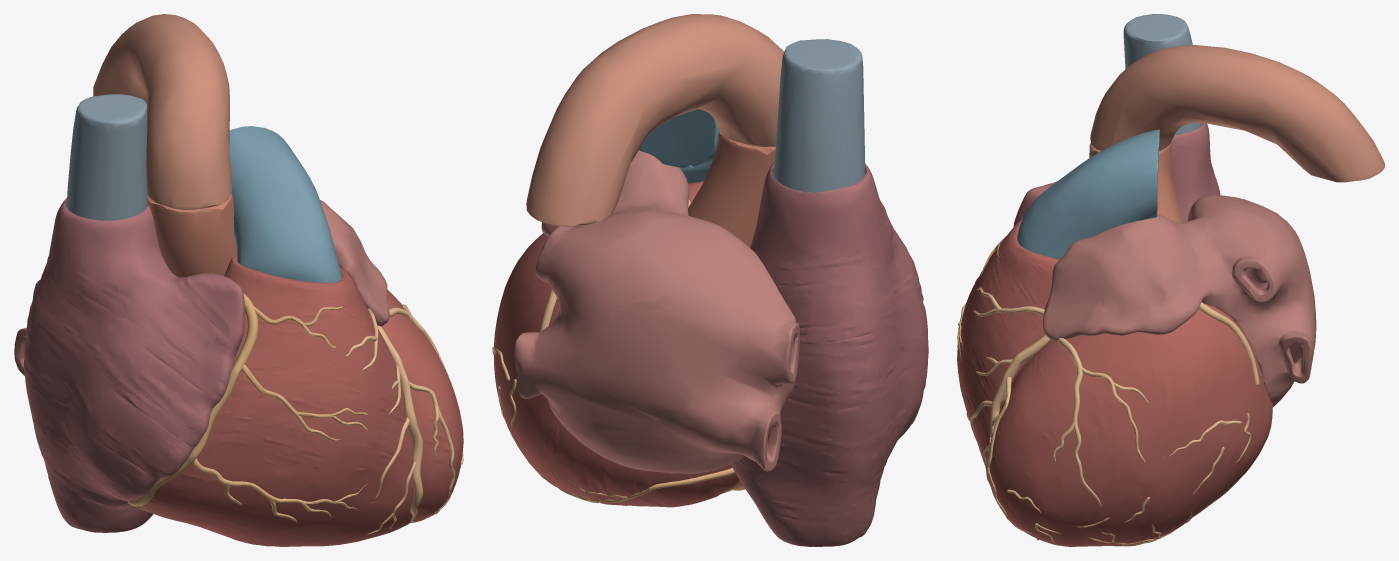
Rendered from heart.glb.
The picture shows the model from 3 angles, left to right: view 1: azimuth 30°, elevation 25°; view 2: azimuth 150°, elevation 25°; view 3: azimuth 270°, elevation 25°; orthographic projection. The views are drawn at different scales.
Parts seen in each view (by area): view 1: ventricular-wall, right-atrium, aortic-arch, pulmonary-trunk, superior-vena-cava, ascending-aorta, right-coronary, left-coronary, left-atrium; view 2: left-atrium, right-atrium, aortic-arch, ventricular-wall, superior-vena-cava, ascending-aorta, pulmonary-trunk, right-coronary, left-coronary; view 3: ventricular-wall, left-atrium, aortic-arch, pulmonary-trunk, left-coronary, right-atrium, superior-vena-cava, ascending-aorta, right-coronary.
Boxes of the visible parts, x1,y1,x2,y2 form: ventricular-wall: [136, 254, 463, 546]; right-atrium: [23, 198, 244, 532]; aortic-arch: [93, 14, 231, 209]; pulmonary-trunk: [229, 126, 342, 282]; superior-vena-cava: [66, 94, 147, 220]; ascending-aorta: [147, 193, 236, 277]; right-coronary: [127, 293, 424, 522]; left-coronary: [346, 304, 463, 535]; left-atrium: [14, 200, 389, 375]; left-atrium: [514, 150, 799, 473]; right-atrium: [731, 163, 928, 546]; aortic-arch: [526, 14, 783, 226]; ventricular-wall: [494, 181, 742, 507]; superior-vena-cava: [773, 39, 865, 192]; ascending-aorta: [688, 131, 775, 247]; pulmonary-trunk: [639, 109, 719, 183]; right-coronary: [527, 460, 744, 503]; left-coronary: [492, 200, 690, 426]; ventricular-wall: [957, 218, 1272, 546]; left-atrium: [1043, 195, 1316, 407]; aortic-arch: [1090, 45, 1384, 182]; pulmonary-trunk: [1017, 129, 1159, 259]; left-coronary: [970, 287, 1259, 542]; right-atrium: [1013, 123, 1220, 226]; superior-vena-cava: [1123, 14, 1203, 134]; ascending-aorta: [1089, 143, 1182, 223]; right-coronary: [957, 236, 1192, 546].
Bounding box in the file's own units: 2.31 × 2.86 × 2.54.
